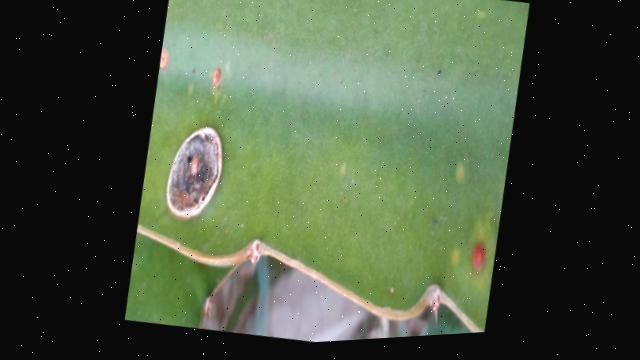stemcanker: (205, 57, 229, 103), (465, 238, 491, 279), (152, 46, 175, 75)
